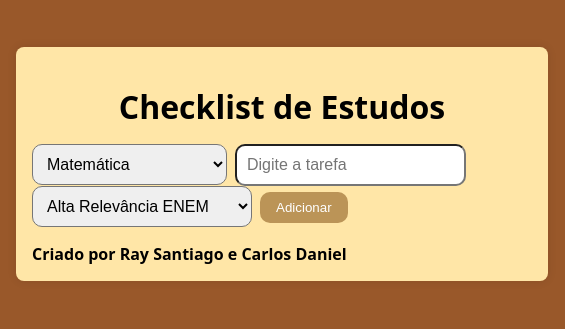
Scenario: adiciona um conteudo de fisica
Select "Física" in the 1st dropdown showing "Matemática" at point(130, 164), box [32, 144, 227, 185]
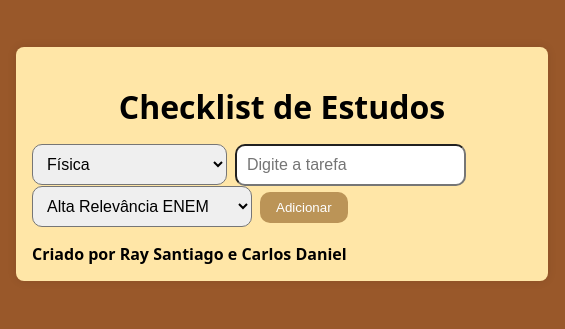
Type "Eletrodinâmica" into the field with placeholder "Digite a tarefa" at point(350, 165), box [235, 144, 466, 186]
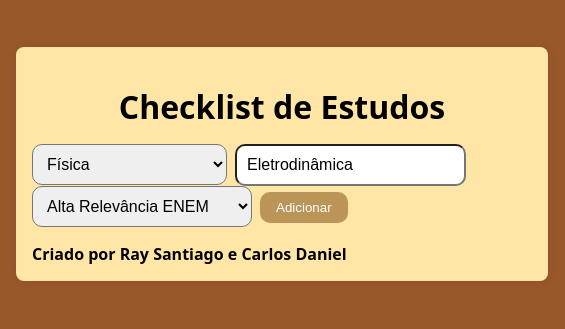
Select "Alta Relevância ENEM" in the 2nd dropdown showing "Alta Relevância ENEM" at point(142, 206), box [32, 186, 252, 227]
Click the button "Adicionar" at point(304, 207), box [260, 192, 348, 223]
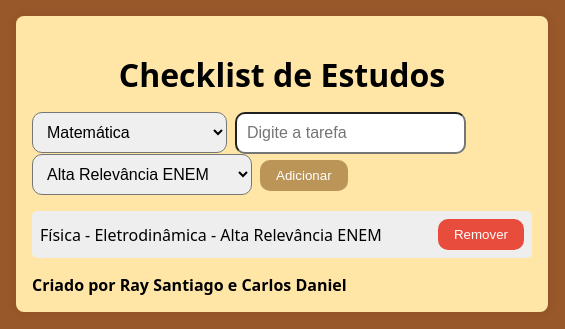
Now the list item "Física - Eletrodinâmica - Alta Relevância ENEM" is shown, box [32, 211, 532, 258]
